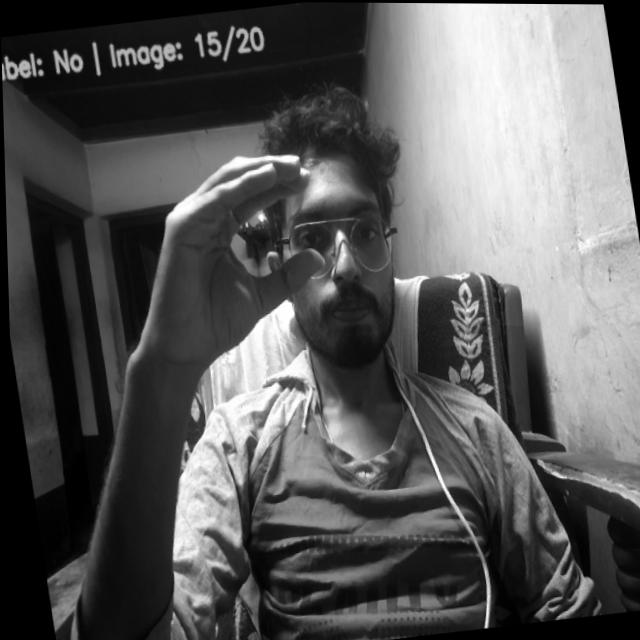No: (113, 146, 337, 382)
